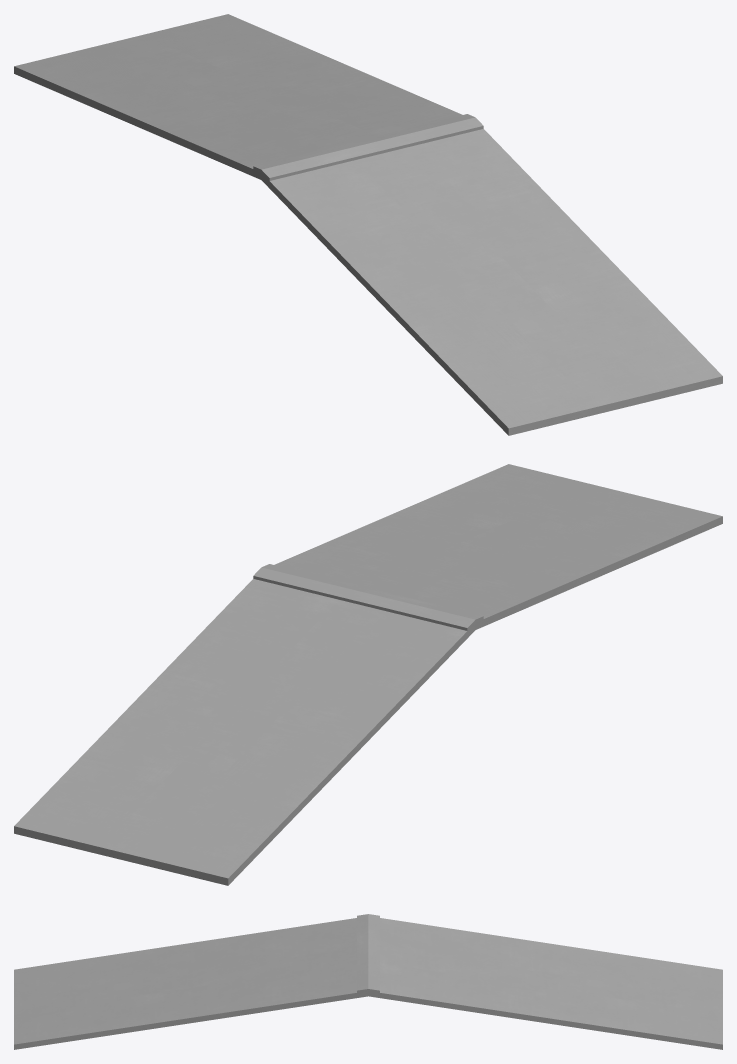
Rendered from SM06_Building_RoofPanel_Gable_01_Mid_01.fbx.
3 views of the same model, one above another, from view 1: azimuth 30°, elevation 25°; view 2: azimuth 150°, elevation 25°; view 3: azimuth 270°, elevation 25° (orthographic). The views are drawn at different scales.
Parts seen in each view (by area): view 1: SM06_Building_RoofPanel_Gable_01_Mid_01; view 2: SM06_Building_RoofPanel_Gable_01_Mid_01; view 3: SM06_Building_RoofPanel_Gable_01_Mid_01.
Boxes of the visible parts, bbox=[...] form: SM06_Building_RoofPanel_Gable_01_Mid_01: bbox=[14, 14, 722, 435]; SM06_Building_RoofPanel_Gable_01_Mid_01: bbox=[14, 464, 722, 885]; SM06_Building_RoofPanel_Gable_01_Mid_01: bbox=[14, 914, 722, 1049].
Bounding box in the file's own units: 15 × 5.7 × 60.
